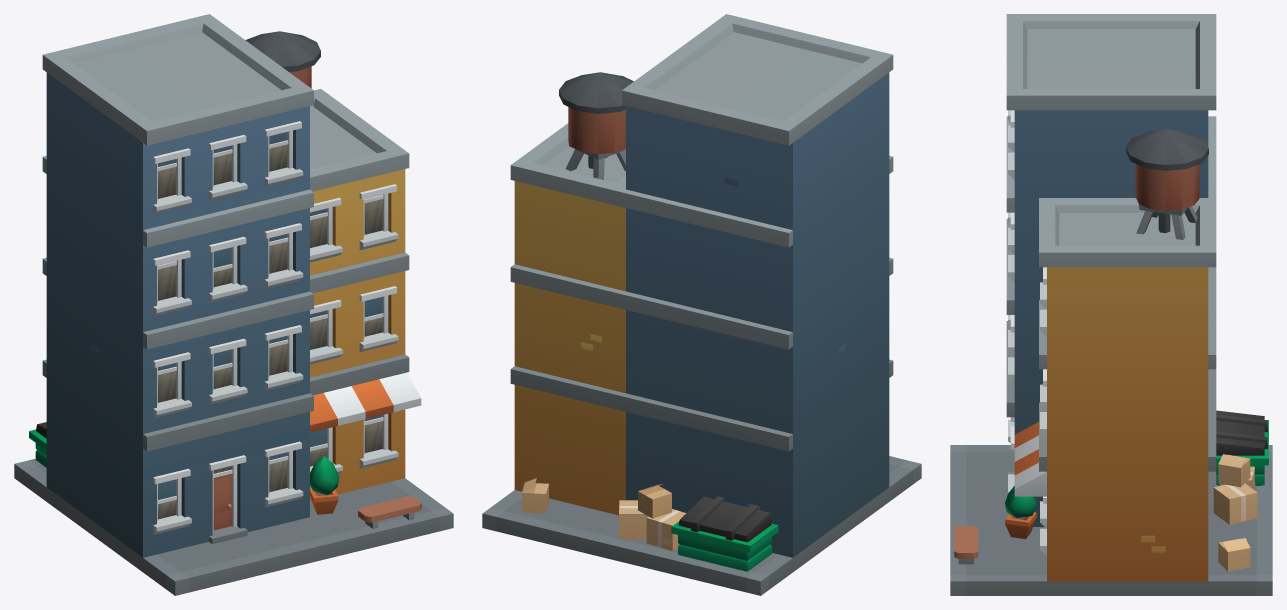
Rendered from bld-h.glb.
3 views of the same model, side by side, from view 1: azimuth 30°, elevation 25°; view 2: azimuth 150°, elevation 25°; view 3: azimuth 270°, elevation 25° (orthographic).
Visible parts, largest first — view 1: building_H; view 2: building_H; view 3: building_H.
Boxes of the visible parts, x1,y1,x2,y2 form: building_H: (14, 14, 453, 595); building_H: (482, 14, 921, 595); building_H: (950, 14, 1272, 595).
Size of the model in its own units: 2.01 by 3.05 by 2.
1 material, 1 textured.
